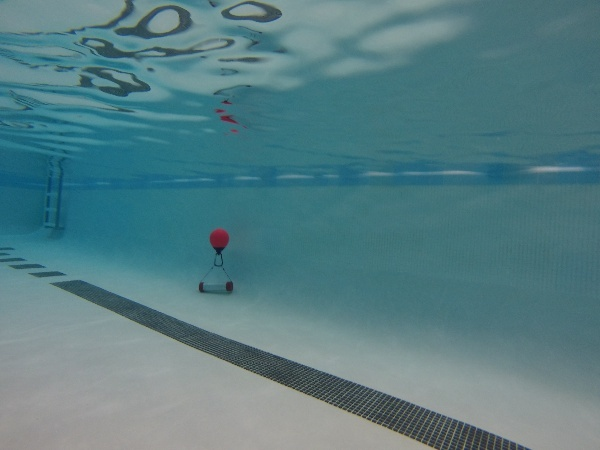buoy_red: (207, 225, 231, 257)
